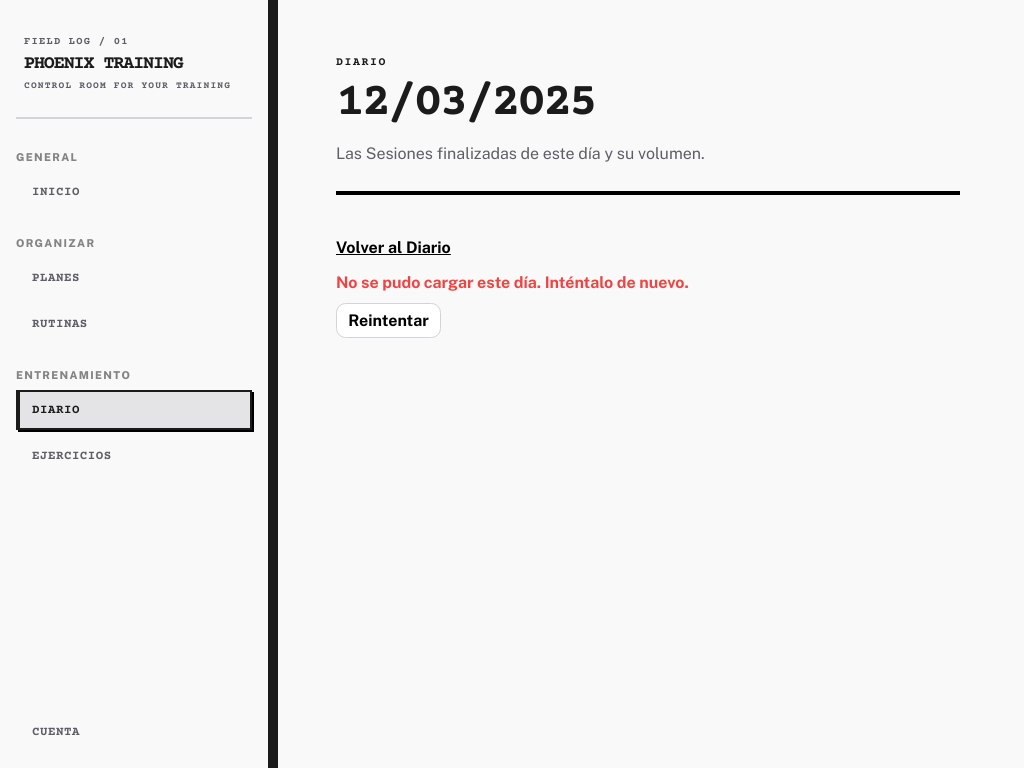
Scenario: Diario: detalle de un día › muestra la carga y permite reintentar cuando falla
Expected: the text "No se pudo cargar este día. Inténtalo de nuevo. Reintentar" is shown, [336,273,689,338]
Click the button "Reintentar".
click(389, 321)  # box [336,303,441,338]
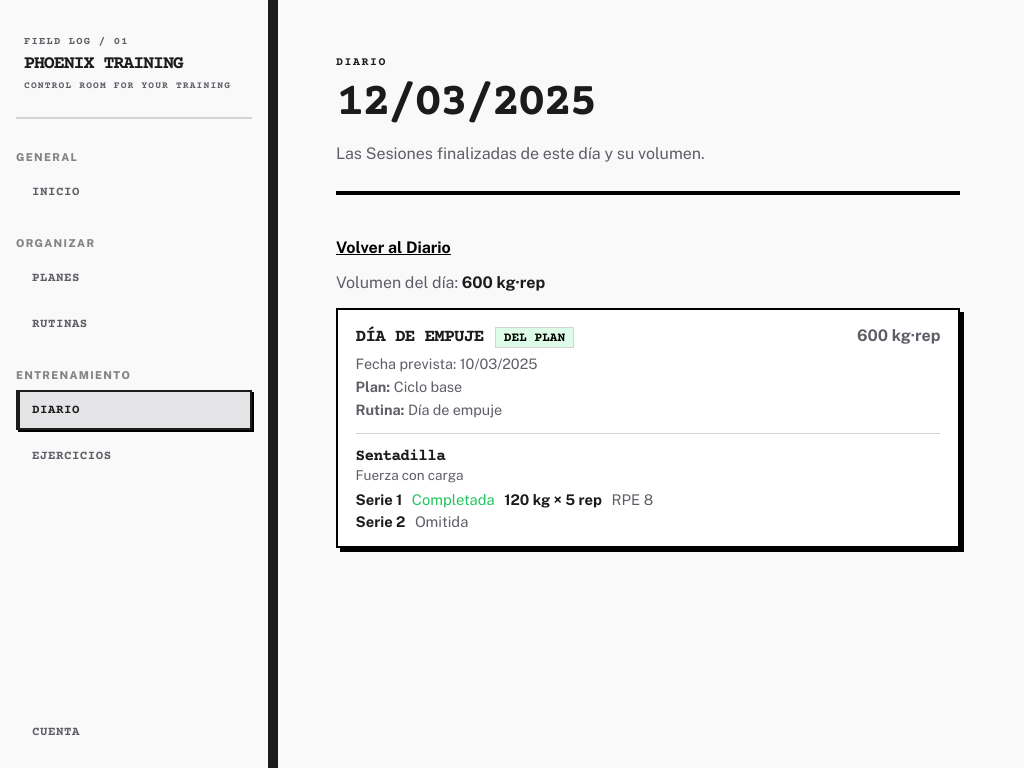
Expected: the heading "Día de empuje" is shown, [356,327,484,347]
